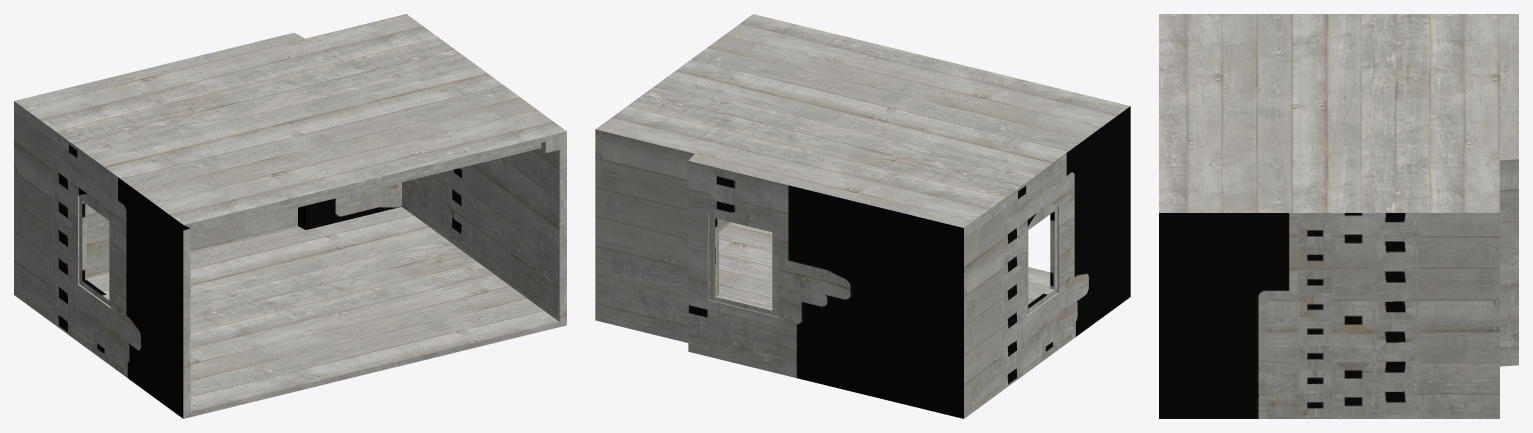
The model's file is Room.fbx.
3 renders of one model, left to right at view 1: azimuth 30°, elevation 25°; view 2: azimuth 150°, elevation 25°; view 3: azimuth 270°, elevation 25°, orthographic. The views are drawn at different scales.
Visible parts, largest first — view 1: defaultMaterial.049; view 2: defaultMaterial.049; view 3: defaultMaterial.049.
Part boxes in pixels (x1,y1,x2,y2): defaultMaterial.049: (14,14,566,418); defaultMaterial.049: (595,14,1130,418); defaultMaterial.049: (1159,14,1518,418).
Size of the model in its own units: 700 by 338 by 536.
Materials: 2 (2 with a texture image).
